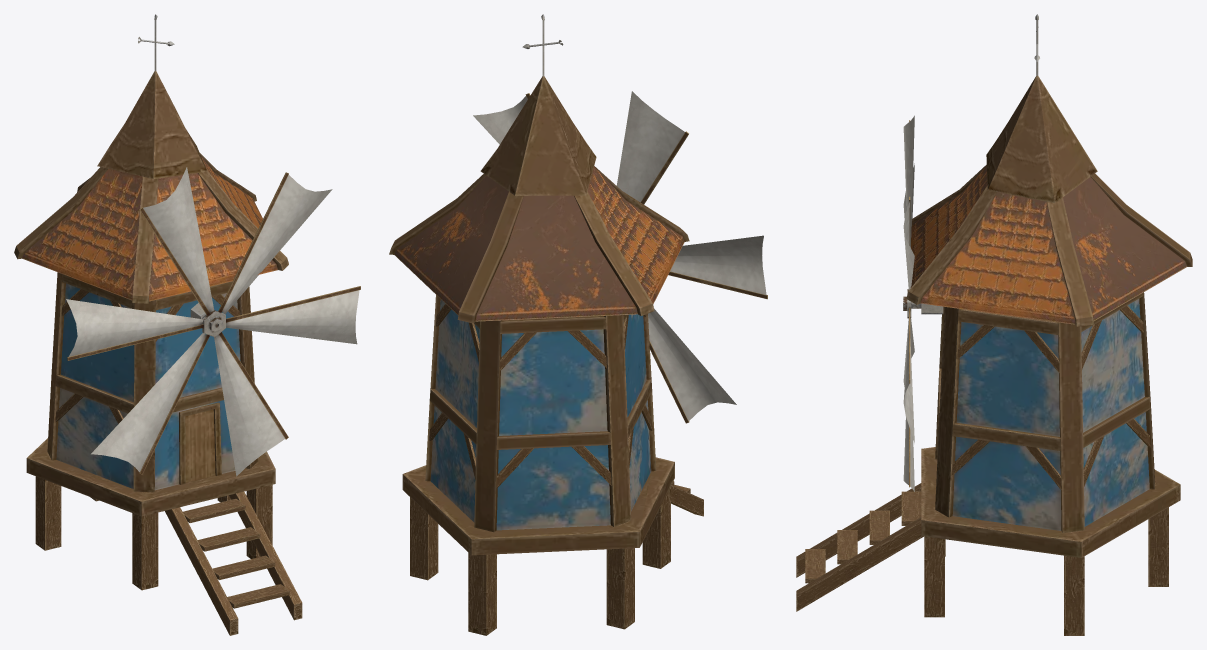
3 views of the same model, side by side, from view 1: azimuth 30°, elevation 25°; view 2: azimuth 150°, elevation 25°; view 3: azimuth 270°, elevation 25° (orthographic). The views are drawn at different scales.
Visible parts, largest first — view 1: Tower_low, Windheel_low, Stomme_low, Trappa1_low, Trappa2_low, PlankorX_low, Metal_low; view 2: Tower_low, Windheel_low, Stomme_low, PlankorX_low, Trappa1_low; view 3: Tower_low, Stomme_low, Trappa1_low, Windheel_low, PlankorX_low, Trappa2_low, Metal_low.
Part boxes in pixels (bbox=[...]): Tower_low: bbox=[14, 71, 288, 516]; Windheel_low: bbox=[66, 167, 360, 476]; Stomme_low: bbox=[35, 476, 272, 590]; Trappa1_low: bbox=[165, 491, 302, 635]; Trappa2_low: bbox=[183, 499, 289, 608]; PlankorX_low: bbox=[55, 289, 239, 423]; Metal_low: bbox=[138, 14, 225, 337]; Tower_low: bbox=[389, 76, 689, 555]; Windheel_low: bbox=[473, 91, 767, 423]; Stomme_low: bbox=[410, 486, 670, 635]; PlankorX_low: bbox=[429, 304, 652, 488]; Trappa1_low: bbox=[671, 485, 703, 516]; Tower_low: bbox=[906, 75, 1192, 557]; Stomme_low: bbox=[924, 507, 1168, 635]; Trappa1_low: bbox=[796, 483, 923, 611]; Windheel_low: bbox=[903, 115, 914, 491]; PlankorX_low: bbox=[952, 305, 1150, 490]; Trappa2_low: bbox=[805, 491, 921, 583]; Metal_low: bbox=[903, 14, 1039, 318].
Bounding box in the file's own units: 305 × 530 × 329.
Materials: 10 (10 with a texture image).
